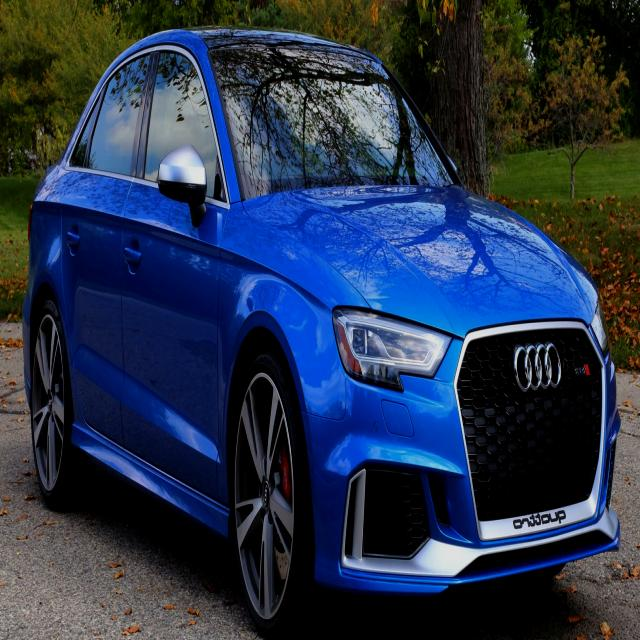blue: (19, 18, 620, 623)
